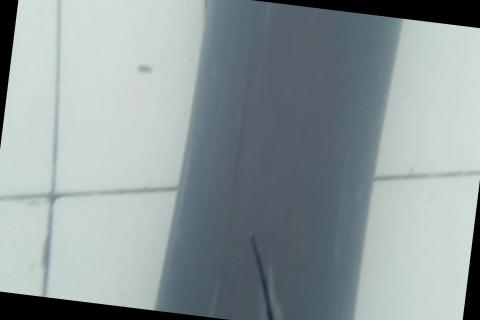keretakan: (238, 232, 296, 320)
